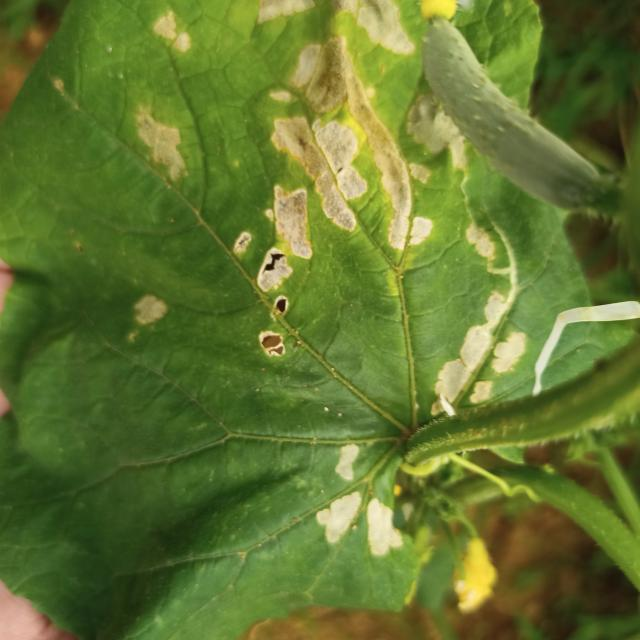disease_cucumber: (131, 5, 527, 417), (314, 443, 410, 561)
